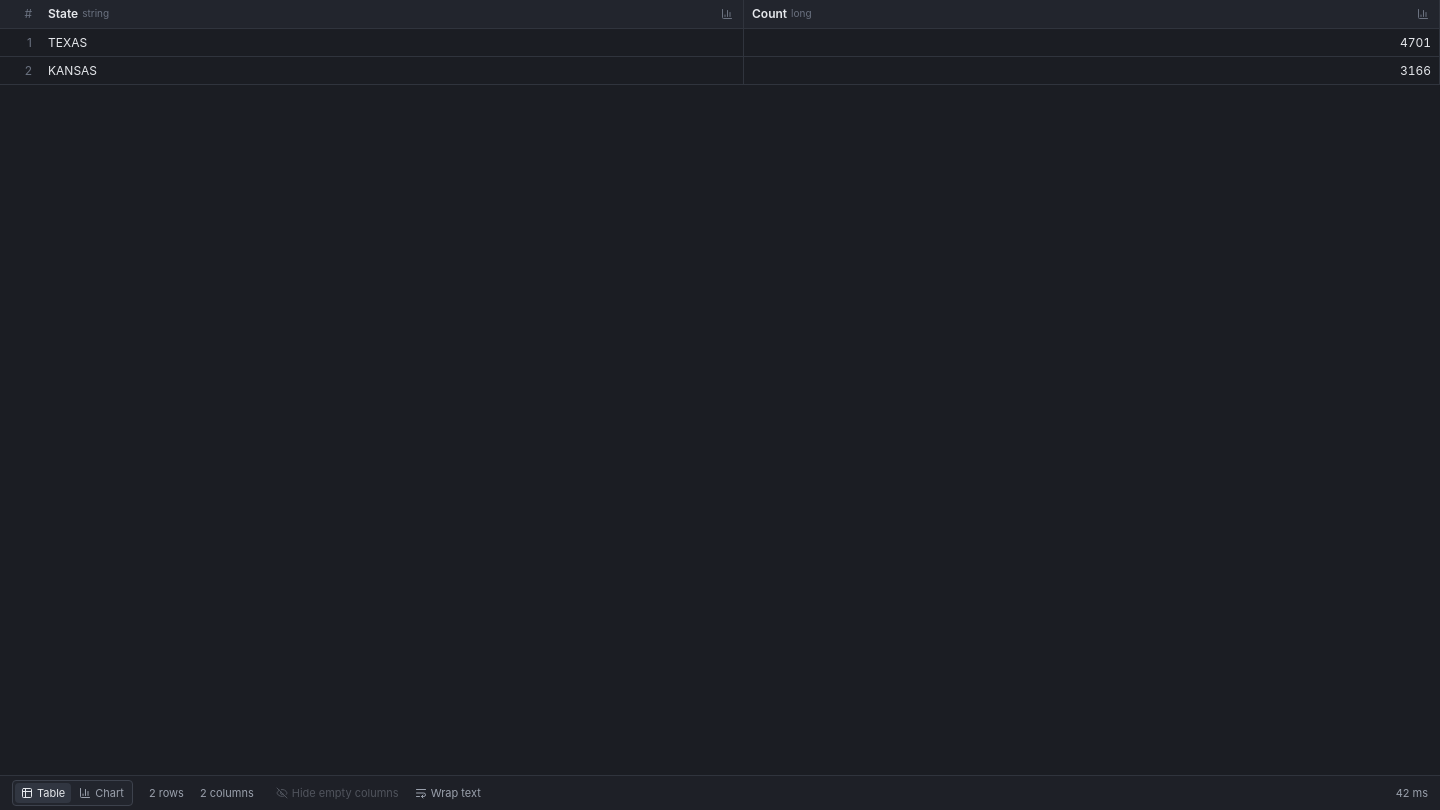
ResultsView › shows a value distribution when exploring a column
Step 1. Click the button named "Explore values in State" → (727, 14), box [719, 6, 735, 22]
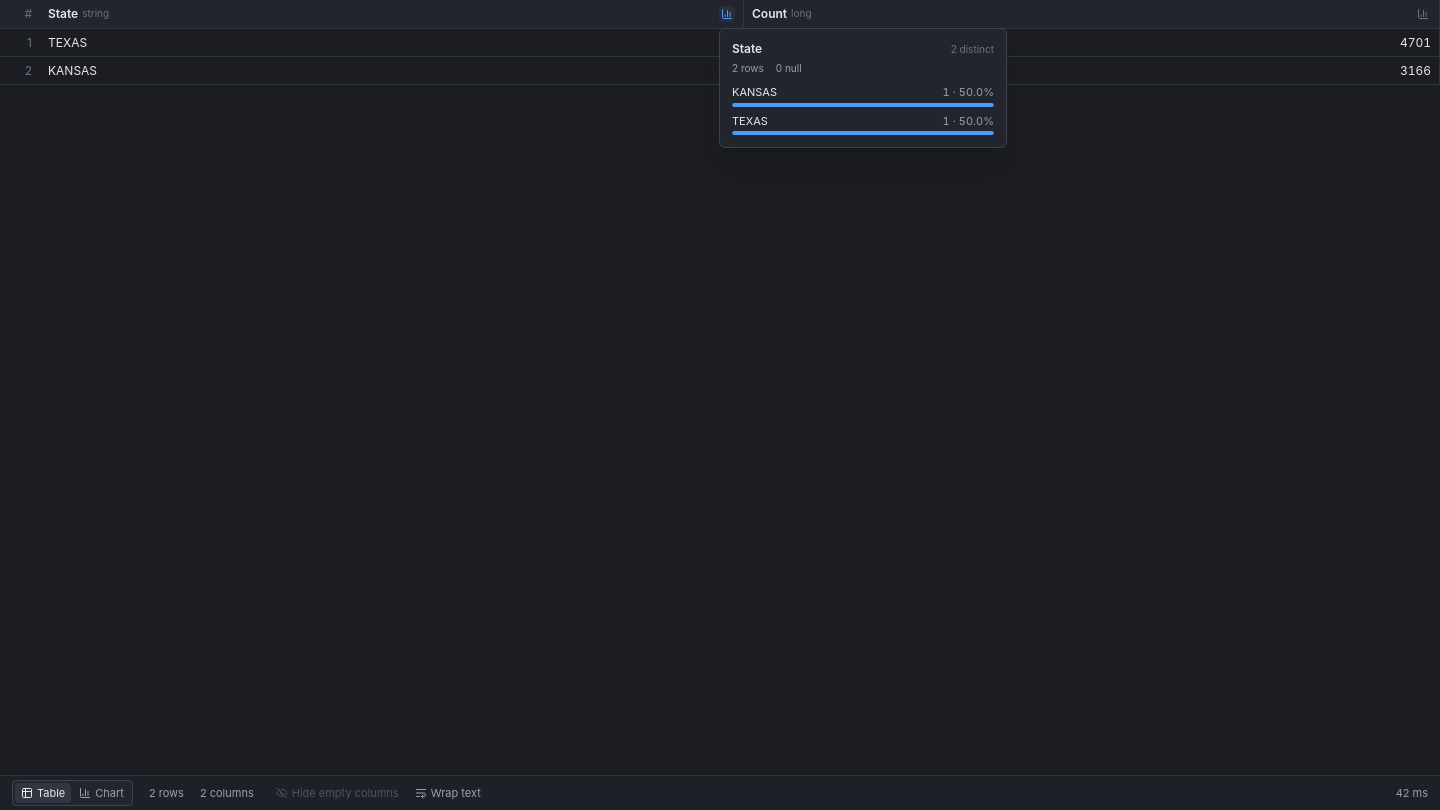
Expected: the text "2 distinct" is shown, [951, 42, 994, 57]
Expected: the text "0 null" is shown, [776, 61, 802, 76]
Expected: the text "1 · 50.0%" is shown 2 times, [943, 84, 994, 100]; [943, 112, 994, 129]
